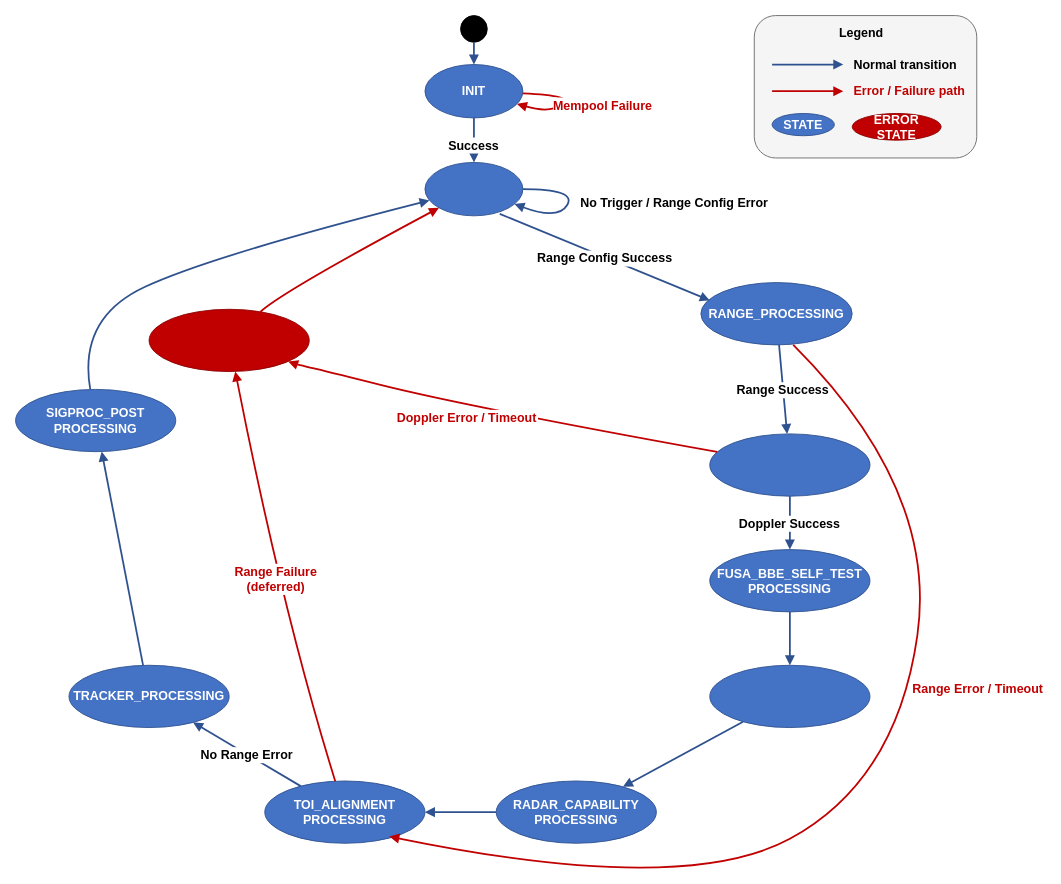
This 1061x884 diagram has some shape labels left out. The centre of each missing label's shape, as x and y in pixels:
"ANGLE_FINDING PROCESSING" belongs at pixel 789 696.
"DOPPLER_AND_RDD PROCESSING" belongs at pixel 789 464.
"IDLE" belongs at pixel 473 189.
"SIGPROC_POST PROCESSING_ERROR" belongs at pixel 228 340.
